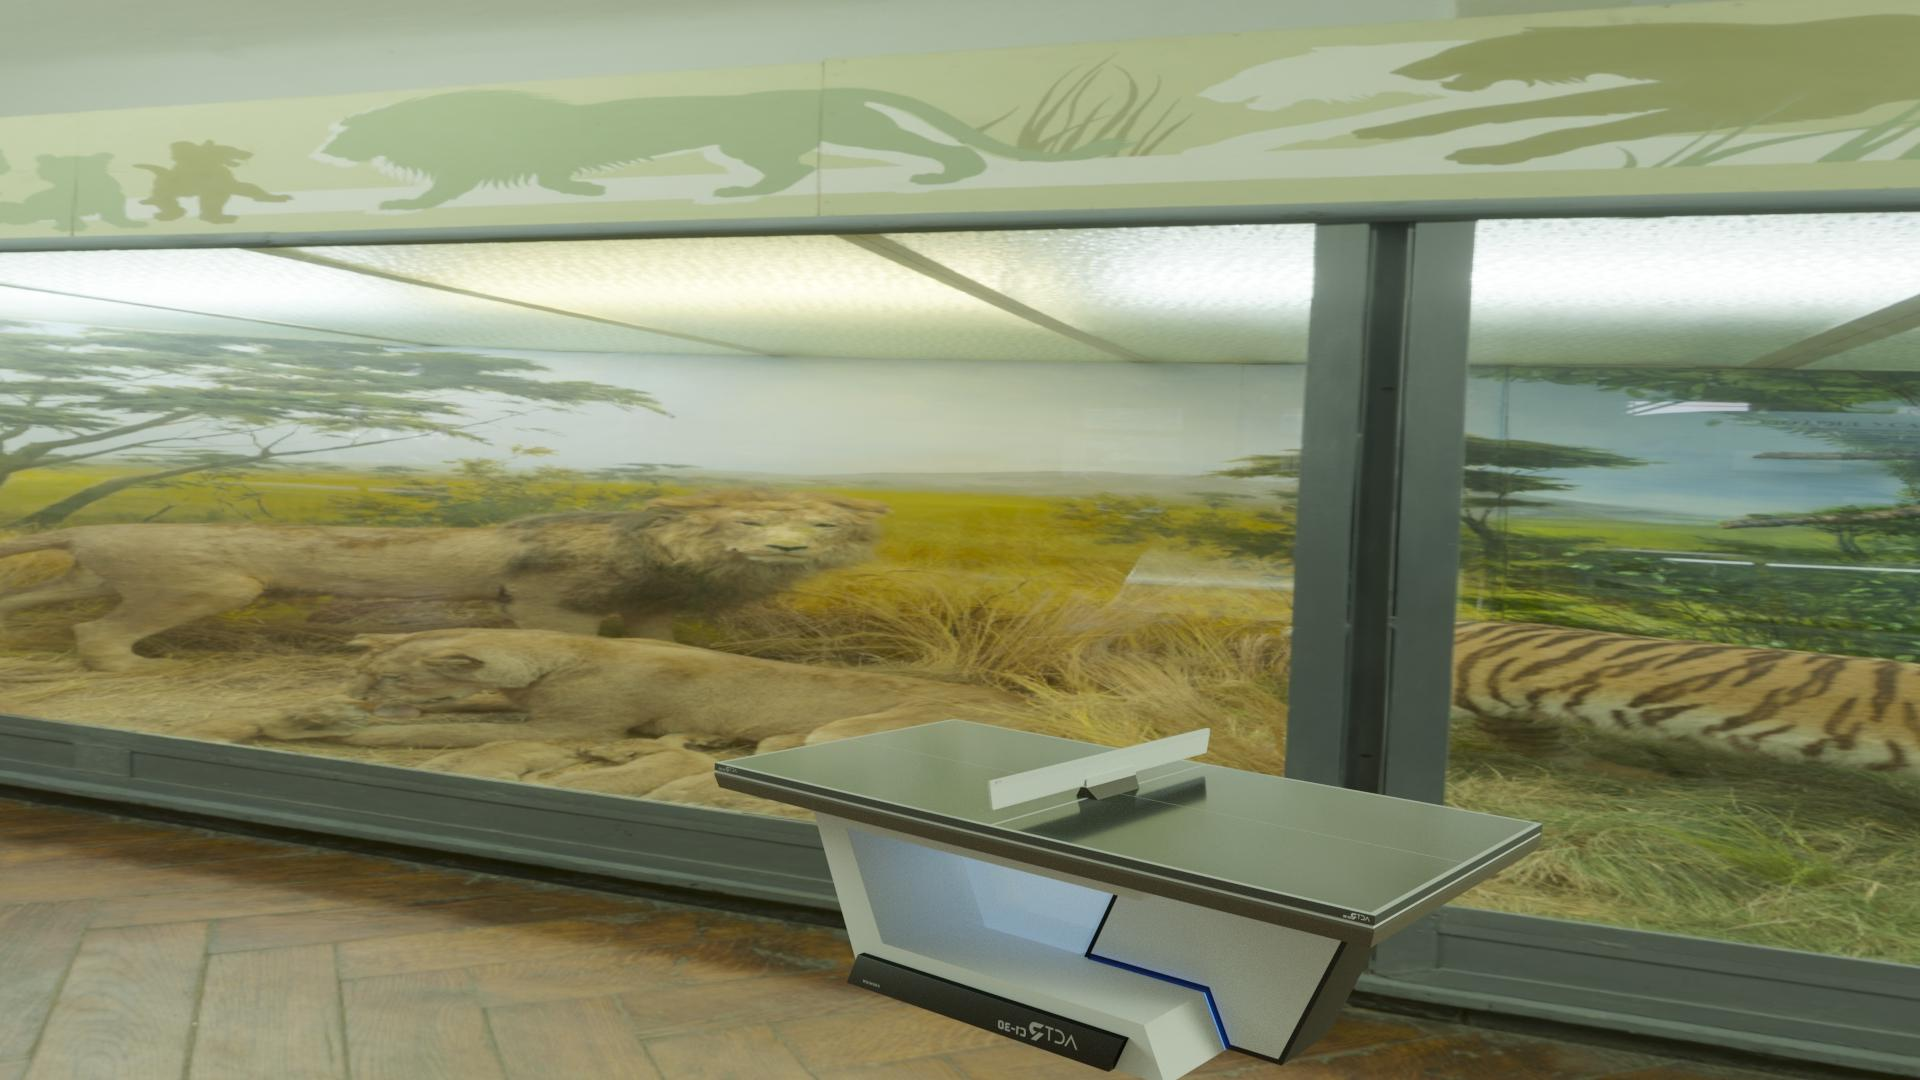table: (721, 720, 1535, 913)
